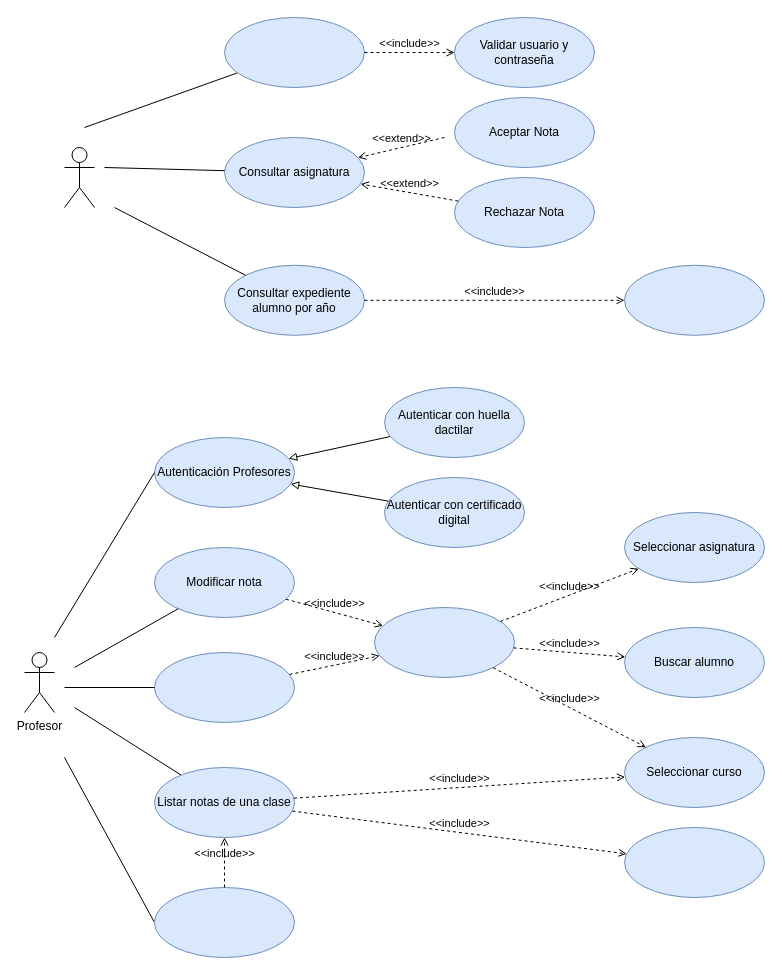
Some shapes in this 782 by 975 pixel diagram are drawn without their labels. The shapes that lost their labels are listed below. From the top down, each one's centre as x and y in pixels, then its label:
point 294,52: Autenticación Alumnos
point 79,177: Alumno
point 694,299: Seleccionar año
point 444,642: Seleccionar contexto de evaluación
point 224,687: introducir nota
point 694,862: Seleccionar grupo
point 224,922: Generar informe de notas PDF
